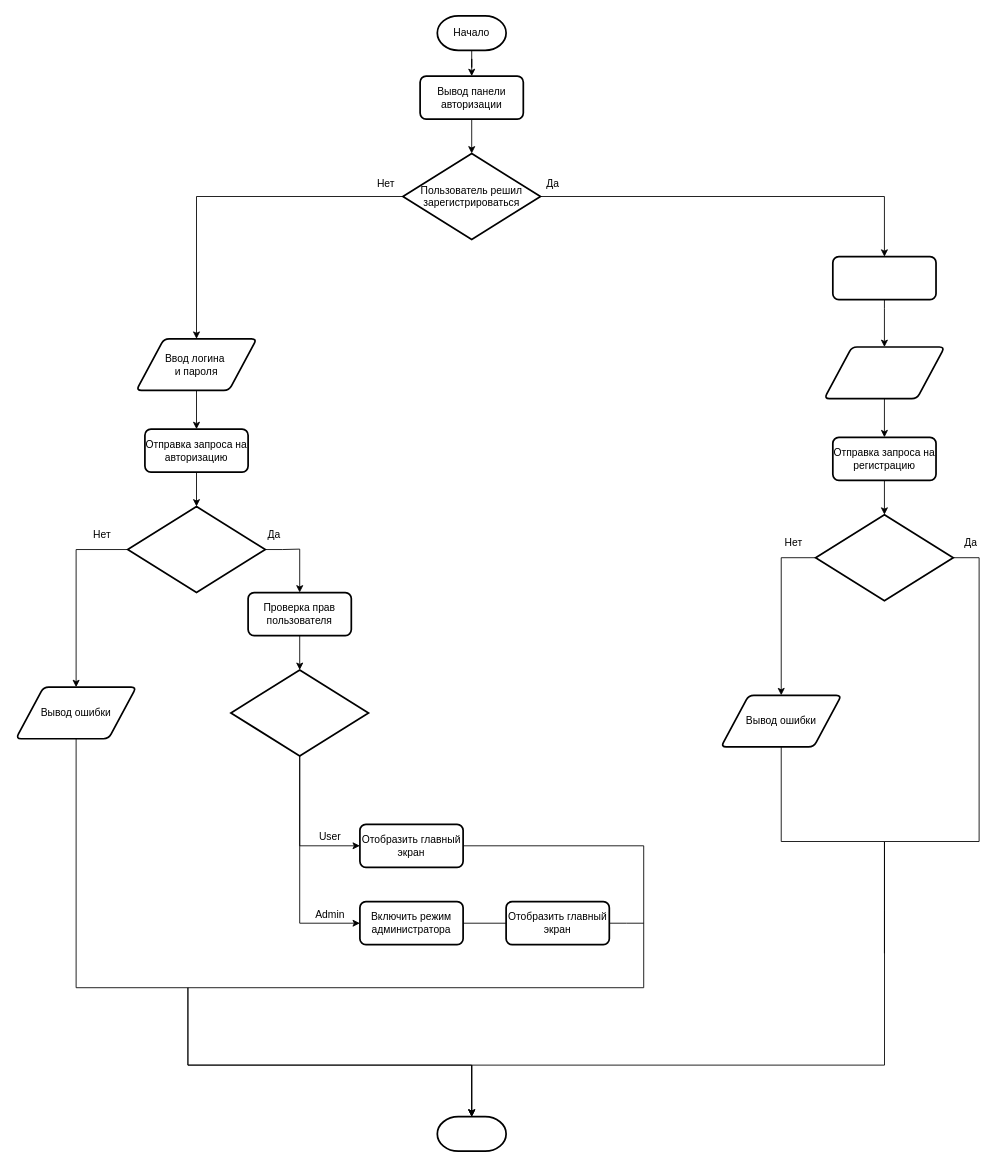
The diagram is 1002 pixels wide and 1166 high, and some of its shapes have lost their labels. Each missing label, with the box of its shape:
Ввод логина, пароля и ключа администратора: (823, 346, 945, 399)
Вывод панели регистрации: (832, 255, 936, 300)
Данные введены корректно?: (814, 513, 954, 601)
Конец: (436, 1115, 507, 1152)
Пользователь существует: (126, 505, 266, 593)
Роль пользователя: (230, 669, 369, 756)
